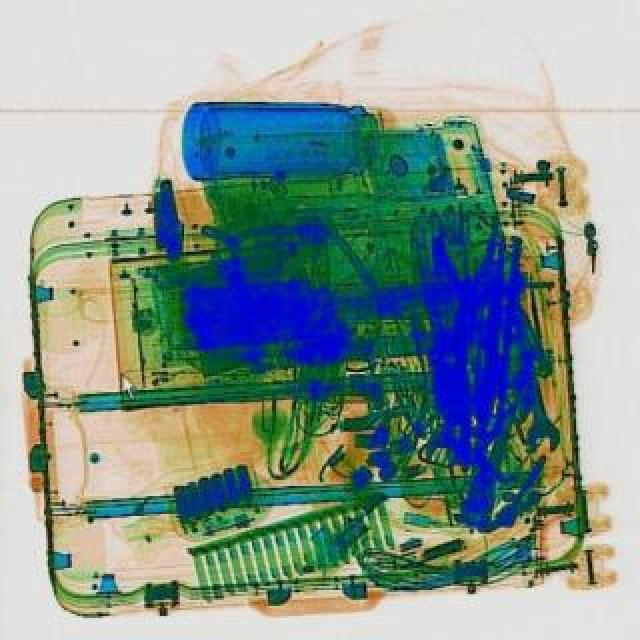scissors: (508, 340, 560, 452)
